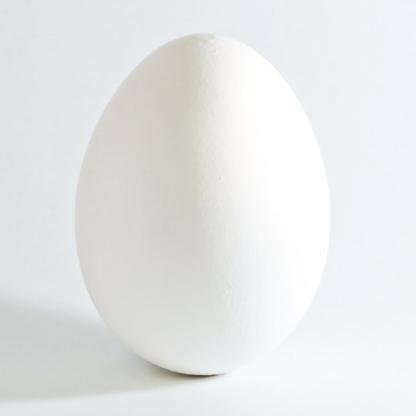egg: (74, 30, 334, 381)
